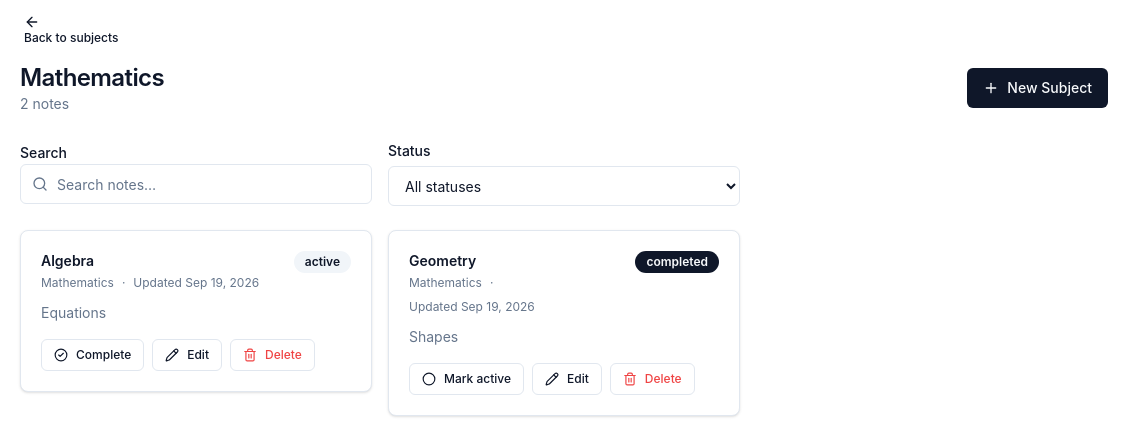
Test case: SubjectPage › filters notes within subject
The image size is (1125, 434).
Type "algebra" into the search field with placeholder "Search notes…" at (196, 184), box [20,164,372,204]
Wait 300 ms
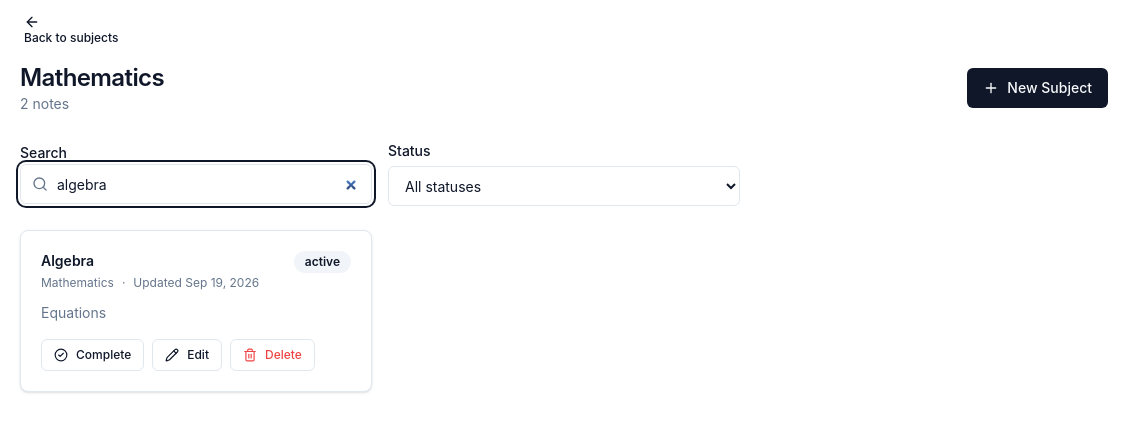
Expected: the link "Algebra" is shown, [41,252,94,269]
Now the link "Geometry" is gone
